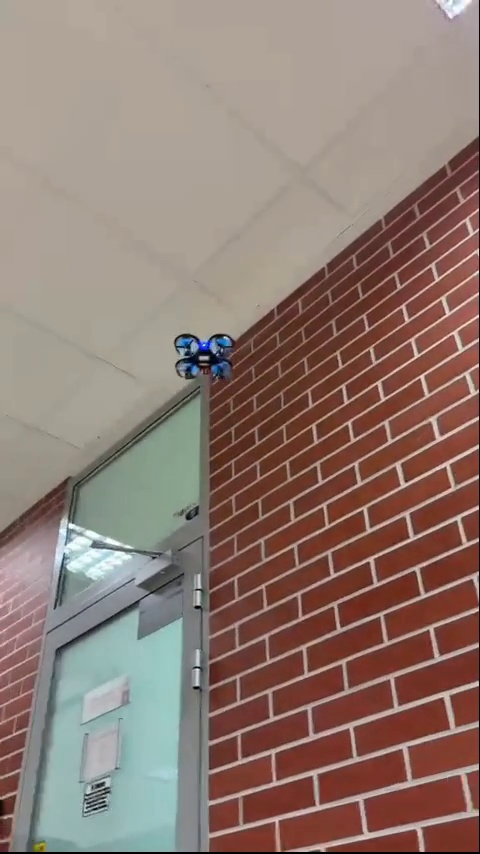drone: (171, 331, 234, 387)
